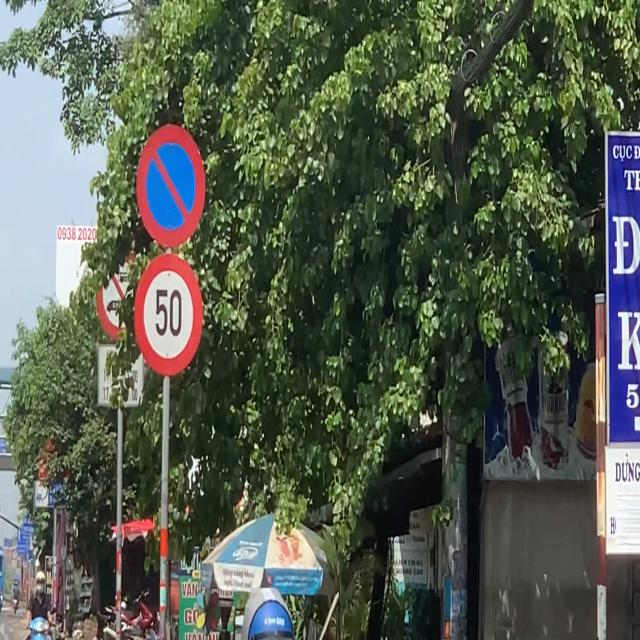Cam do: (136, 123, 206, 248)
Toc do toi da: (134, 253, 203, 376)
